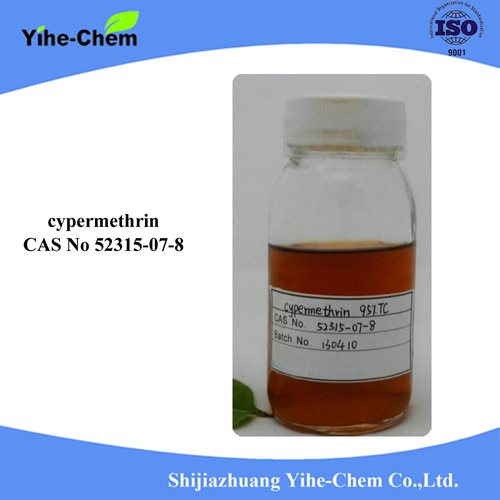Insecticide: (261, 90, 423, 436)
